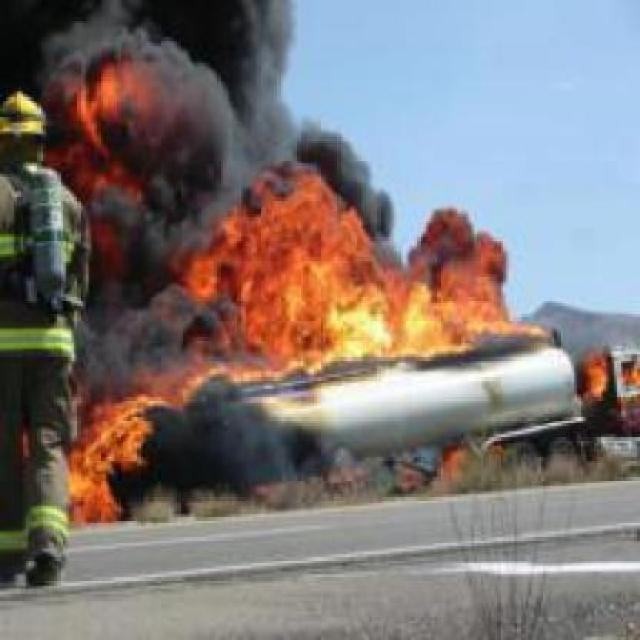Fire: (183, 179, 524, 382), (61, 82, 163, 186), (66, 396, 145, 523)
Smoke: (1, 0, 297, 83), (164, 84, 373, 180), (84, 188, 180, 390)
